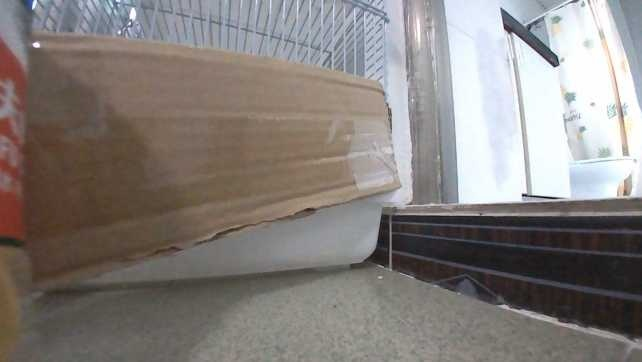toilet: (568, 146, 636, 200)
